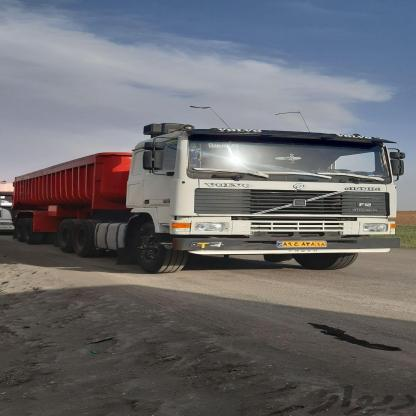Truck: (0, 119, 416, 280)
